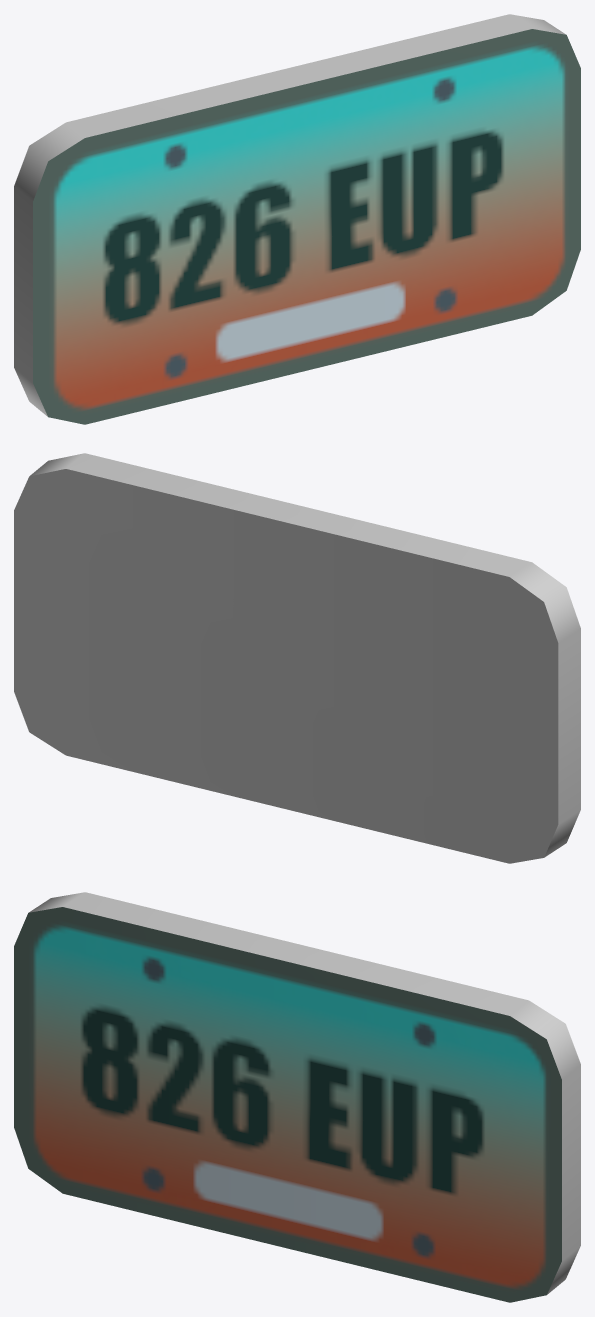
File: Car_Number_11.fbx
The picture shows the model from 3 angles, top to bottom: view 1: azimuth 30°, elevation 25°; view 2: azimuth 150°, elevation 25°; view 3: azimuth 330°, elevation 25°; orthographic projection.
Parts seen in each view (by area): view 1: Car_Number_11; view 2: Car_Number_11; view 3: Car_Number_11.
Boxes of the visible parts, <box> form: Car_Number_11: <box>14,14,580,424</box>; Car_Number_11: <box>14,453,580,863</box>; Car_Number_11: <box>14,892,580,1302</box>.
Size of the model in its own units: 49.09 by 3.48 by 24.55.
